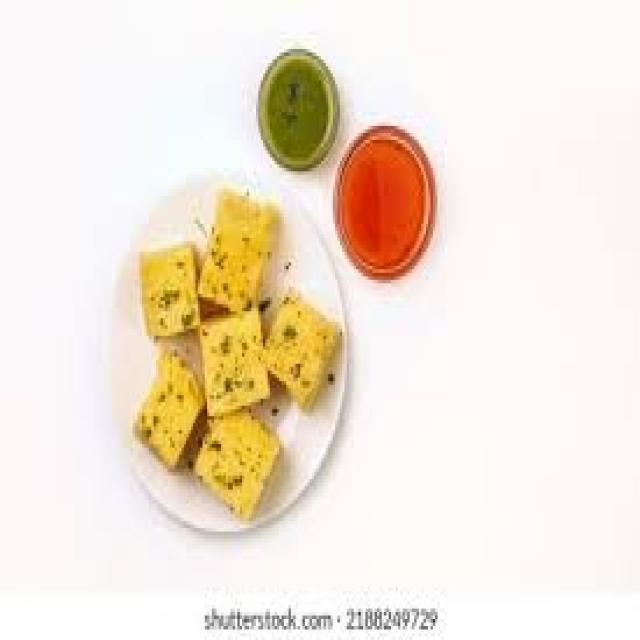DHOKLA: (200, 192, 275, 308), (263, 294, 340, 406), (195, 409, 277, 514), (137, 350, 202, 465), (202, 308, 268, 413), (142, 245, 198, 332)
